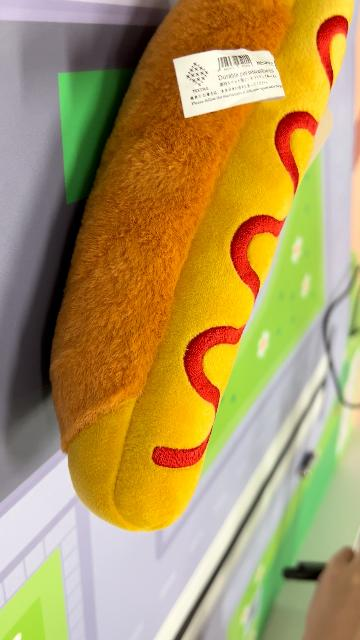hotdog: (49, 2, 355, 534)
